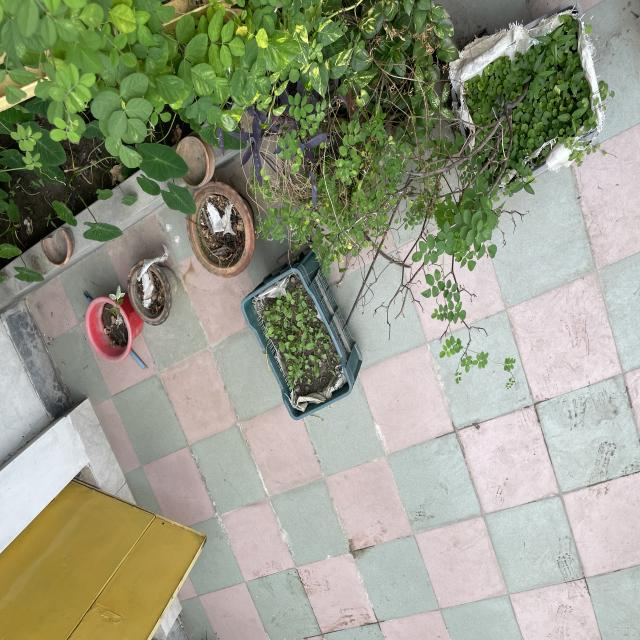Breeding Place: (244, 270, 352, 420), (188, 188, 251, 274), (86, 300, 142, 362), (132, 260, 178, 322), (168, 138, 212, 188), (36, 230, 76, 264)
